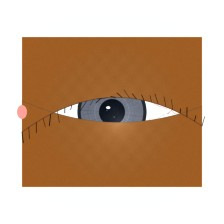pinguecula_lesion: (24, 93, 67, 127)
